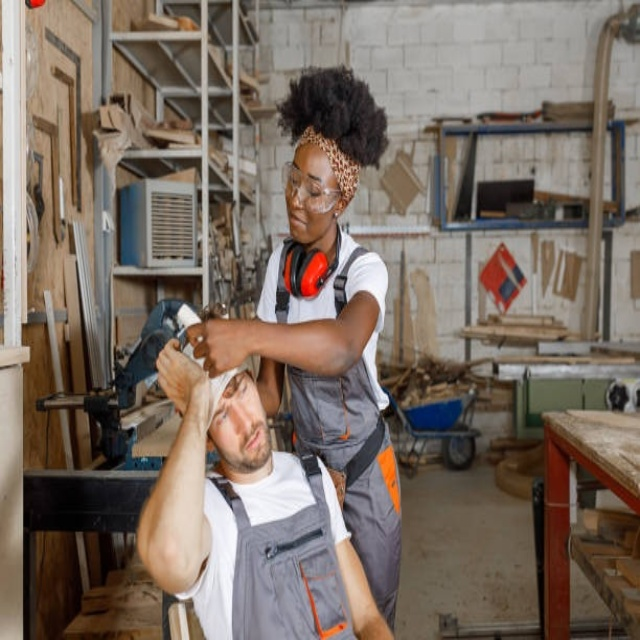Gafas: (283, 163, 344, 215)
Sin_gafas: (213, 376, 253, 435)
Sin_guantes: (155, 338, 205, 418), (185, 317, 256, 369)
Sin_mascara: (238, 422, 269, 469), (287, 209, 312, 240)
